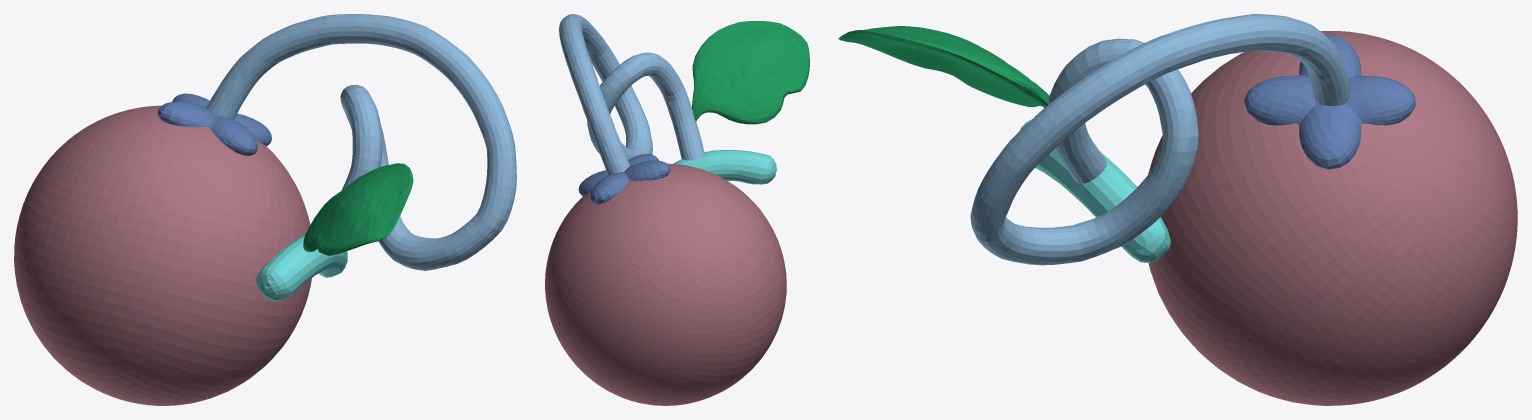
3 renders of one model, left to right at view 1: azimuth 30°, elevation 25°; view 2: azimuth 150°, elevation 25°; view 3: azimuth 270°, elevation 25°, orthographic. The views are drawn at different scales.
Visible parts, largest first — view 1: world; view 2: world; view 3: world.
Part boxes in pixels (x1,y1,x2,y2): world: (14,14,516,405); world: (545,14,809,405); world: (838,14,1517,405).
Bounding box in the file's own units: 0.7546 × 0.7559 × 1.
